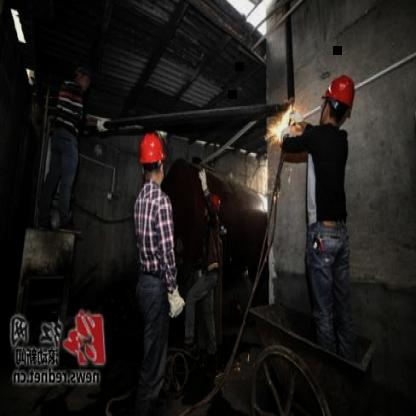helmet: (319, 68, 360, 109), (136, 129, 169, 169)
